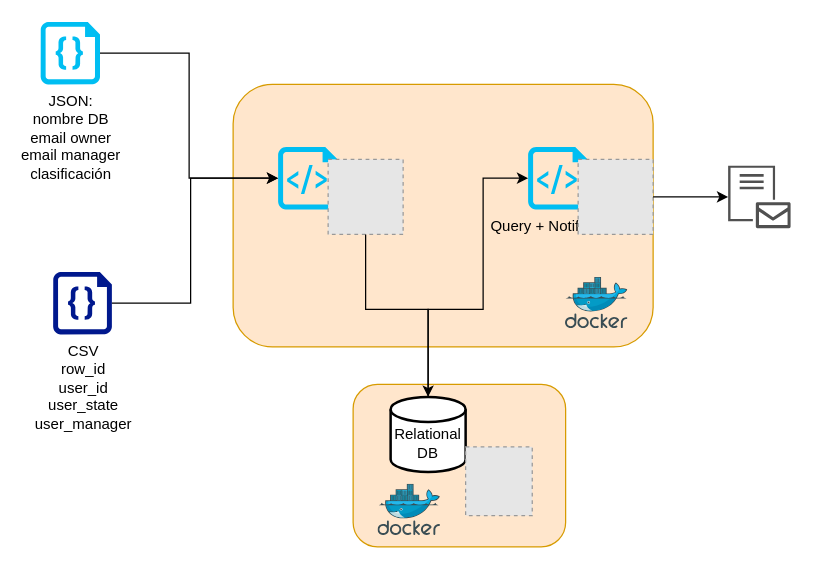
Some shapes in this 840 by 569 pixel diagram are drawn without their labels. Grey dashed boxes stand in for pictures. The shapes that lost their labels are listed below. From the top down, each one's centre as x and y in pixels, then its label:
the point at 307,177: Ingesta y Validación
the point at 759,196: Servicio de Email
